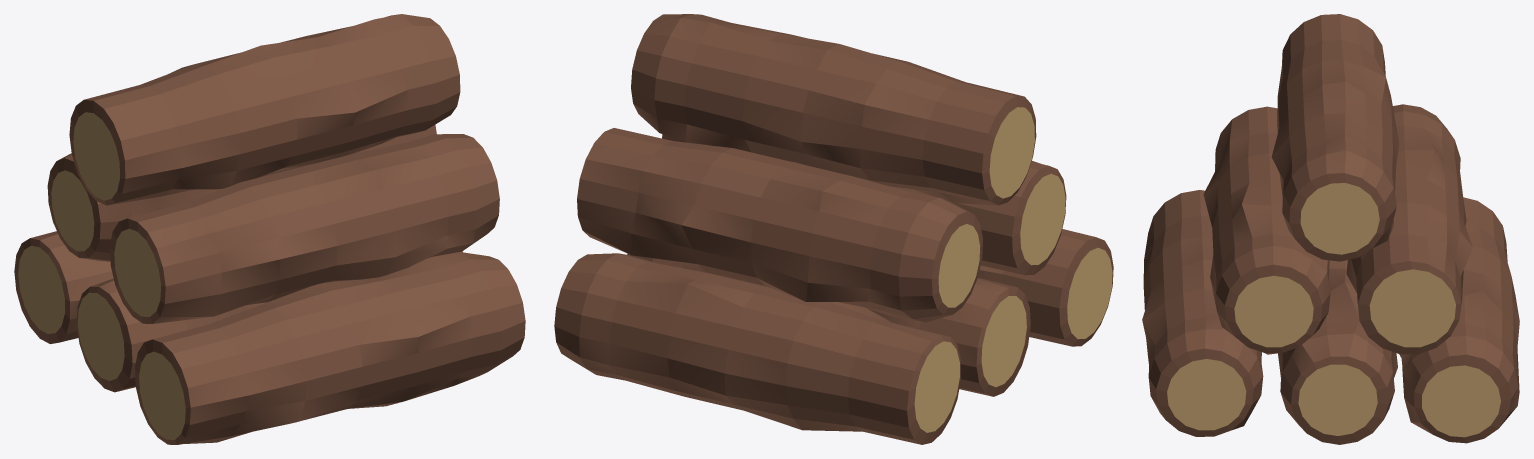
Rendered from trunks.dae.
The picture shows the model from 3 angles, left to right: view 1: azimuth 30°, elevation 25°; view 2: azimuth 150°, elevation 25°; view 3: azimuth 270°, elevation 25°; orthographic projection. The views are drawn at different scales.
Visible parts, largest first — view 1: Wood_Cylinder, Wood_005_Cylinder_010, Wood_004_Cylinder_009, Wood_002_Cylinder_007, Wood_001_Cylinder_006, Wood_003_Cylinder_008; view 2: Wood_003_Cylinder_008, Wood_002_Cylinder_007, Wood_005_Cylinder_010, Wood_Cylinder, Wood_001_Cylinder_006, Wood_004_Cylinder_009; view 3: Wood_005_Cylinder_010, Wood_004_Cylinder_009, Wood_003_Cylinder_008, Wood_Cylinder, Wood_002_Cylinder_007, Wood_001_Cylinder_006.
Boxes of the visible parts, x1,y1,x2,y2 form: Wood_Cylinder: (135,252,525,444); Wood_005_Cylinder_010: (69,14,460,205); Wood_004_Cylinder_009: (109,134,499,323); Wood_002_Cylinder_007: (14,231,113,343); Wood_001_Cylinder_006: (76,251,462,392); Wood_003_Cylinder_008: (47,124,436,261); Wood_003_Cylinder_008: (577,128,982,322); Wood_002_Cylinder_007: (554,253,960,444); Wood_005_Cylinder_010: (631,14,1036,205); Wood_Cylinder: (978,229,1113,346); Wood_001_Cylinder_006: (627,253,1030,396); Wood_004_Cylinder_009: (662,134,1066,275); Wood_005_Cylinder_010: (1271,14,1399,261); Wood_004_Cylinder_009: (1203,106,1330,354); Wood_003_Cylinder_008: (1346,104,1472,354); Wood_Cylinder: (1142,190,1263,436); Wood_002_Cylinder_007: (1399,197,1519,443); Wood_001_Cylinder_006: (1278,260,1397,444).
Bounding box in the file's own units: 4.63 × 4.39 × 3.84.
